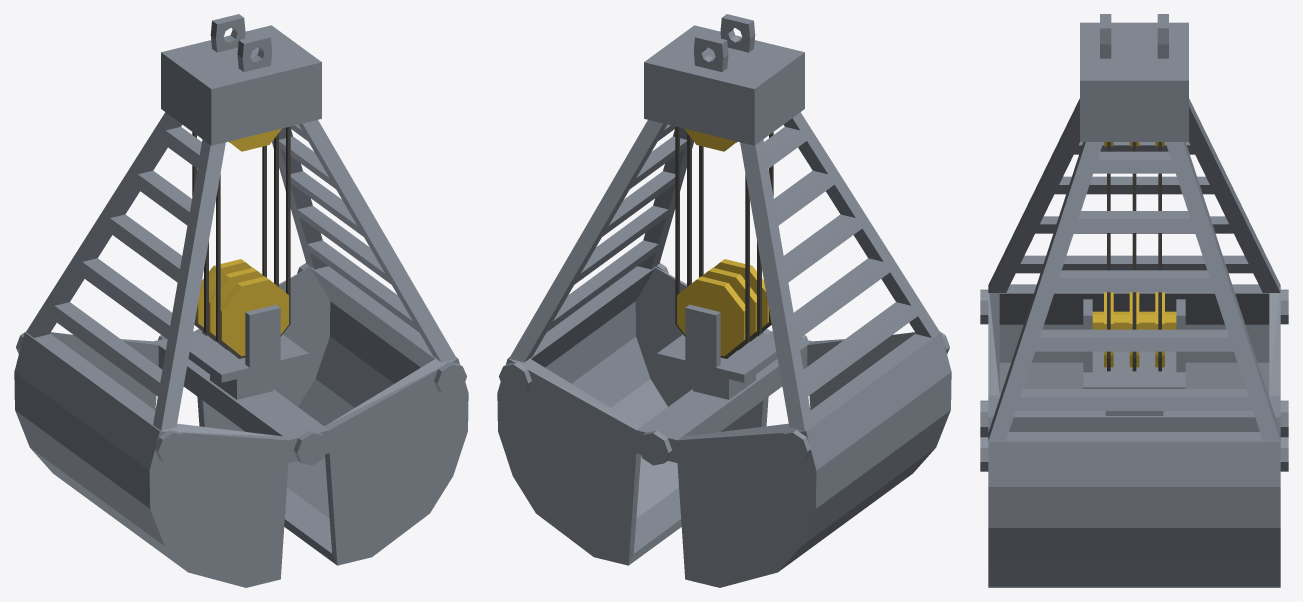
3 views of the same model, side by side, from view 1: azimuth 30°, elevation 25°; view 2: azimuth 150°, elevation 25°; view 3: azimuth 270°, elevation 25° (orthographic). The views are drawn at different scales.
Visible parts, largest first — view 1: Left_thick_concave_jaw, Right_thick_concave_jaw, Left_two_link_cross_tied_frame, Rectangular_upper_head, Right_two_link_cross_tied_frame, Common_lower_hinge_beam, Lower_block_open_yoke, Lower_three_sheave_axle, Front_visible_closing_rope, Center_visible_closing_rope, Front_upper_lifting_lug, Lower_block_pedestal (+5 smaller); view 2: Left_thick_concave_jaw, Right_thick_concave_jaw, Left_two_link_cross_tied_frame, Rectangular_upper_head, Right_two_link_cross_tied_frame, Common_lower_hinge_beam, Lower_block_open_yoke, Lower_three_sheave_axle, Rear_visible_closing_rope, Center_visible_closing_rope, Rear_upper_lifting_lug, Lower_block_pedestal (+5 smaller); view 3: Right_thick_concave_jaw, Right_two_link_cross_tied_frame, Left_thick_concave_jaw, Left_two_link_cross_tied_frame, Rectangular_upper_head, Common_lower_hinge_beam, Lower_block_open_yoke, Lower_three_sheave_axle, Center_visible_closing_rope, Front_visible_closing_rope, Rear_visible_closing_rope, Front_upper_lifting_lug (+1 smaller).
Boxes of the visible parts, bbox=[...] form: Left_thick_concave_jaw: bbox=[14, 332, 288, 587]; Right_thick_concave_jaw: bbox=[194, 266, 468, 565]; Left_two_link_cross_tied_frame: bbox=[26, 112, 225, 430]; Rectangular_upper_head: bbox=[161, 25, 321, 145]; Right_two_link_cross_tied_frame: bbox=[272, 120, 456, 362]; Common_lower_hinge_beam: bbox=[154, 331, 329, 462]; Lower_block_open_yoke: bbox=[188, 304, 308, 382]; Lower_three_sheave_axle: bbox=[197, 259, 288, 356]; Front_visible_closing_rope: bbox=[216, 126, 290, 358]; Center_visible_closing_rope: bbox=[204, 133, 278, 350]; Front_upper_lifting_lug: bbox=[237, 33, 272, 71]; Lower_block_pedestal: bbox=[210, 370, 272, 399]; Left_thick_concave_jaw: bbox=[677, 332, 951, 587]; Right_thick_concave_jaw: bbox=[497, 266, 771, 565]; Left_two_link_cross_tied_frame: bbox=[740, 112, 939, 430]; Rectangular_upper_head: bbox=[644, 25, 804, 145]; Right_two_link_cross_tied_frame: bbox=[509, 120, 693, 362]; Common_lower_hinge_beam: bbox=[636, 331, 811, 462]; Lower_block_open_yoke: bbox=[657, 304, 777, 382]; Lower_three_sheave_axle: bbox=[677, 259, 768, 356]; Rear_visible_closing_rope: bbox=[675, 126, 749, 358]; Center_visible_closing_rope: bbox=[687, 133, 761, 350]; Rear_upper_lifting_lug: bbox=[693, 33, 728, 71]; Lower_block_pedestal: bbox=[693, 370, 755, 399]; Right_thick_concave_jaw: bbox=[988, 417, 1280, 587]; Right_two_link_cross_tied_frame: bbox=[988, 142, 1280, 440]; Left_thick_concave_jaw: bbox=[988, 284, 1280, 395]; Left_two_link_cross_tied_frame: bbox=[988, 98, 1280, 292]; Rectangular_upper_head: bbox=[1080, 22, 1188, 141]; Common_lower_hinge_beam: bbox=[988, 395, 1280, 431]; Lower_block_open_yoke: bbox=[1083, 299, 1185, 388]; Lower_three_sheave_axle: bbox=[1092, 292, 1176, 367]; Center_visible_closing_rope: bbox=[1132, 142, 1136, 371]; Front_visible_closing_rope: bbox=[1107, 142, 1110, 371]; Rear_visible_closing_rope: bbox=[1158, 142, 1161, 371]; Front_upper_lifting_lug: bbox=[1100, 14, 1111, 58].
Bounding box in the file's own units: 2.48 × 3.67 × 1.92.
